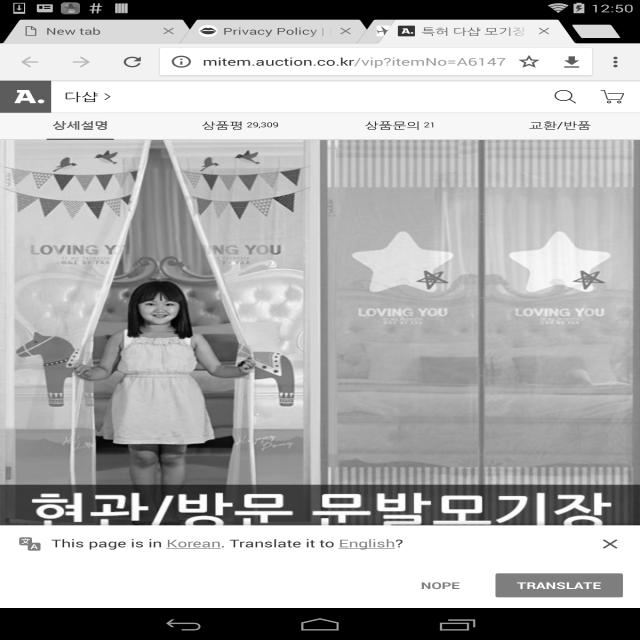Button: (0, 624, 640, 640), (0, 113, 160, 140), (160, 113, 320, 140), (320, 113, 480, 140), (480, 113, 640, 140), (495, 574, 623, 598), (393, 574, 487, 598), (6, 539, 54, 569), (542, 589, 589, 616)
EditText: (202, 50, 508, 73)
ImageButton: (580, 525, 640, 563), (5, 43, 56, 81), (107, 43, 158, 81), (56, 43, 106, 81), (594, 43, 640, 81), (160, 48, 203, 75), (550, 48, 593, 75), (508, 48, 550, 75)
ImageView: (0, 81, 640, 82), (17, 536, 43, 552)
TextView: (51, 536, 580, 550)
